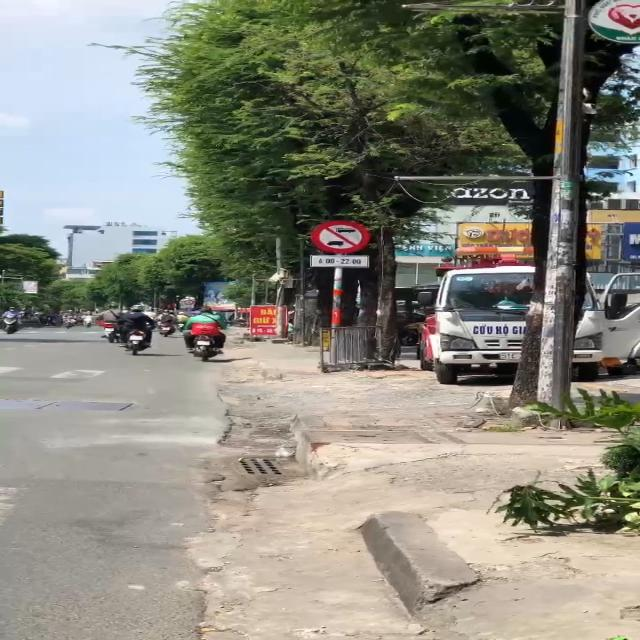Bien bao cam xe oto khach va xe oto tai: (308, 214, 374, 253)
